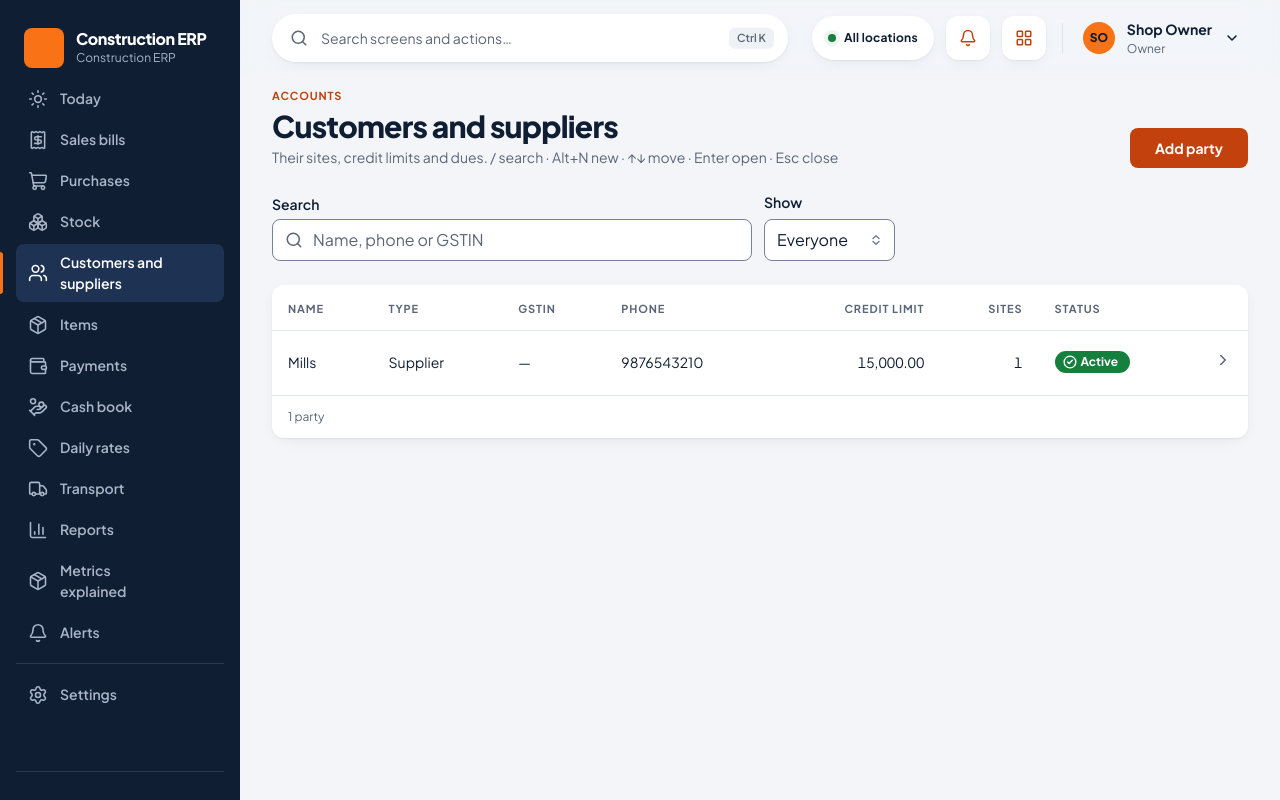
Test: Parties › lets the owner set a supplier's delivery time for the reorder points
Click the button "Mills" at (302, 362), box [288, 352, 316, 373]
(page scrolled)
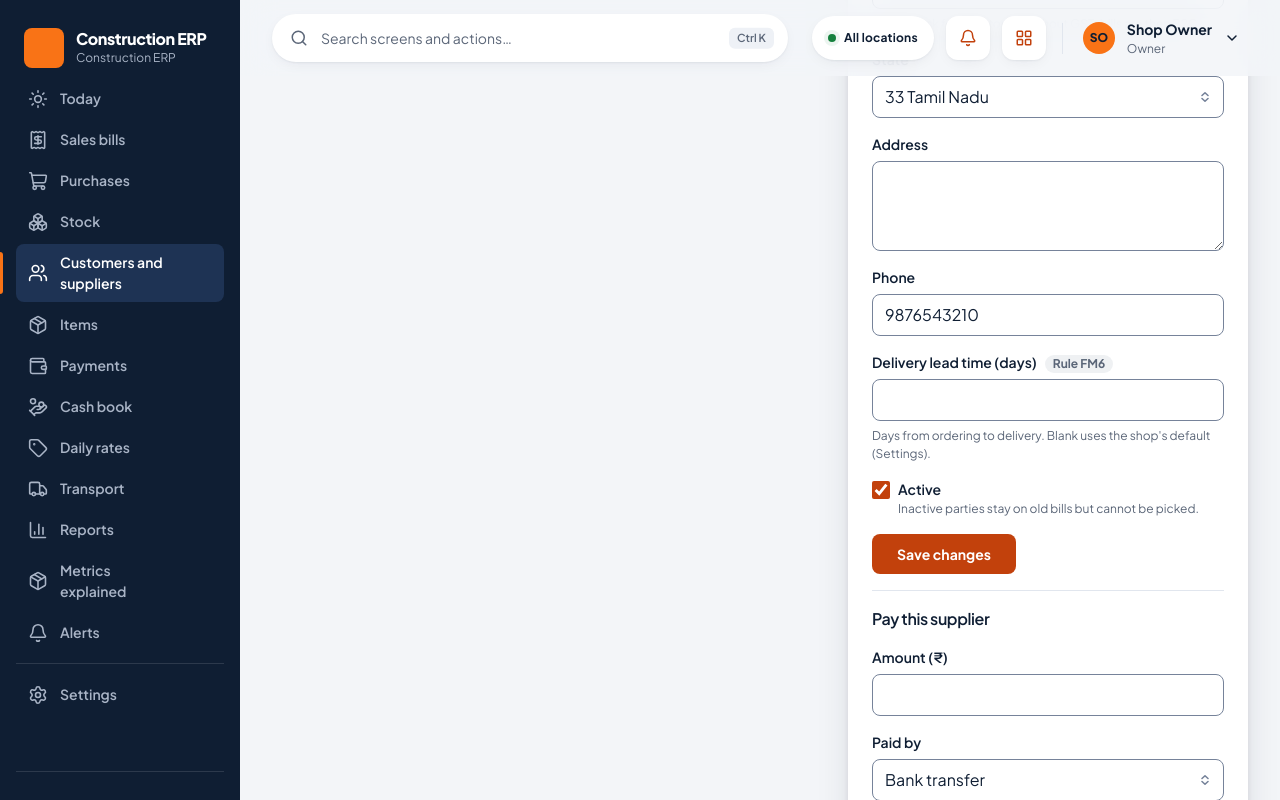
Type "10" into the field labelled "Delivery lead time (days) Rule FM6" at (1048, 400), box [872, 379, 1224, 421]
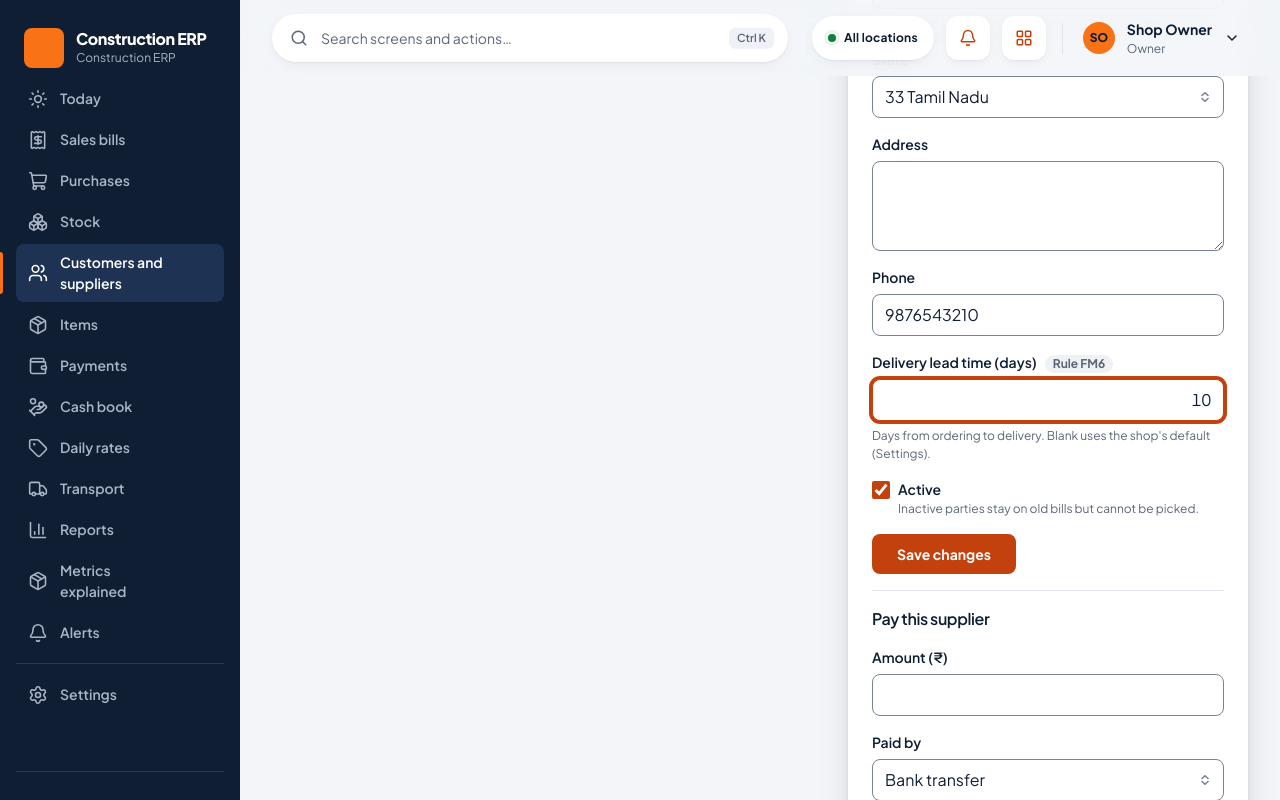
Click the button "Save changes" at (944, 554), box [872, 534, 1016, 574]
(page scrolled)
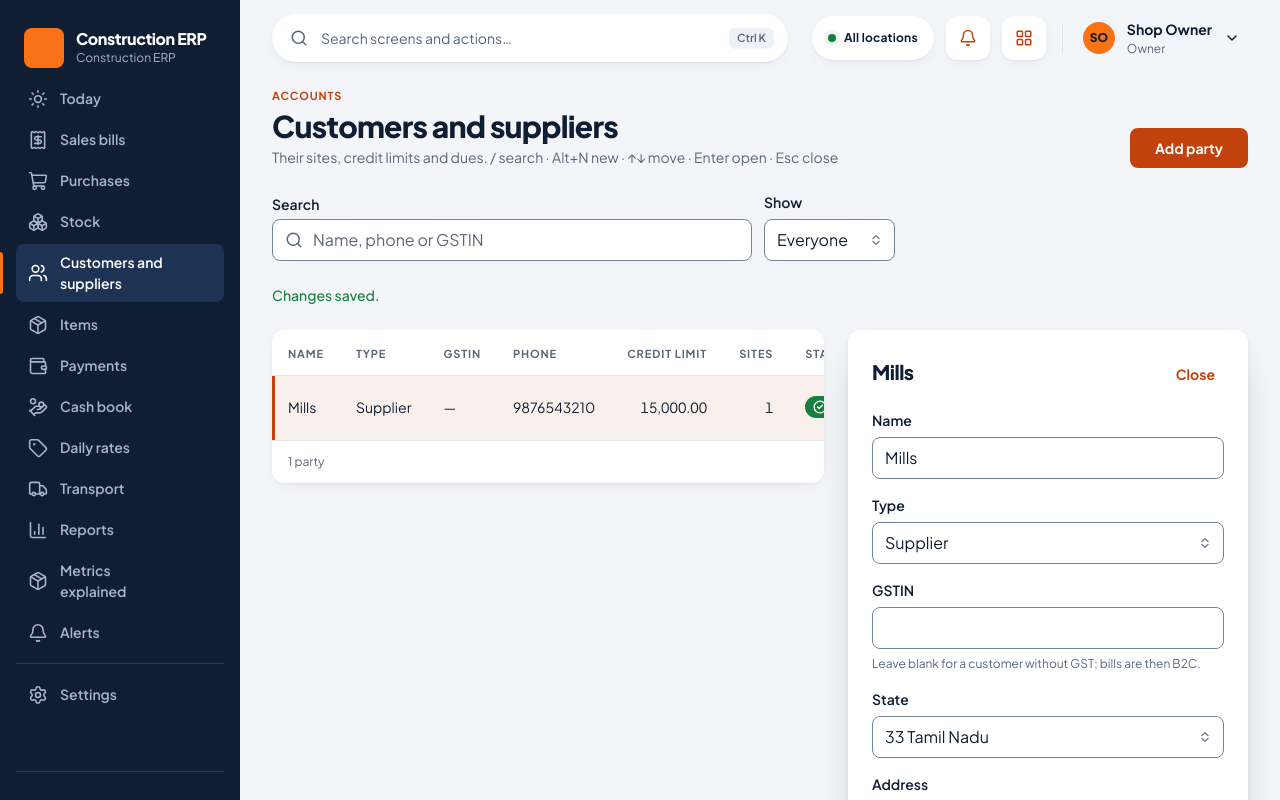
Now the text "Changes saved." is shown, box [272, 286, 379, 304]
